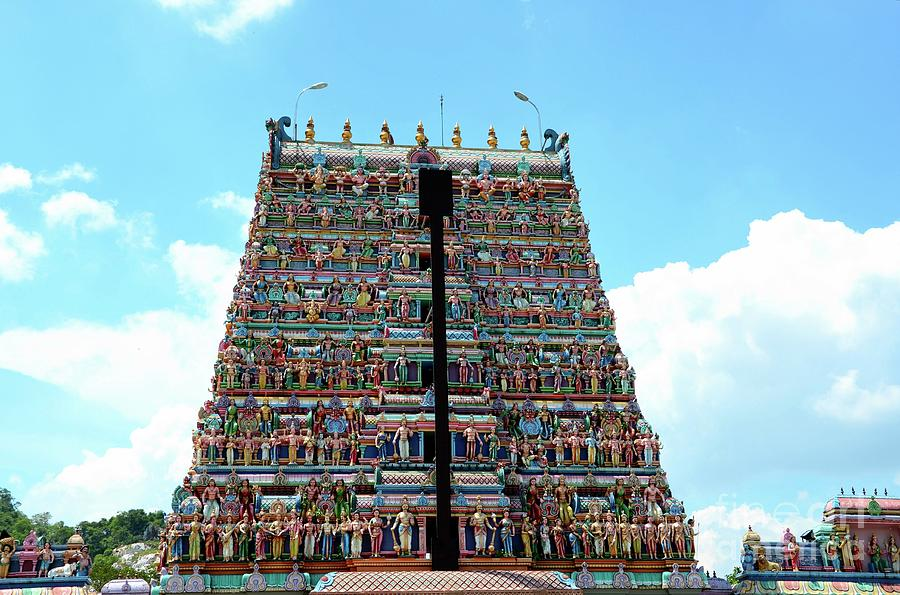Hindu Temple: (196, 102, 678, 563)
